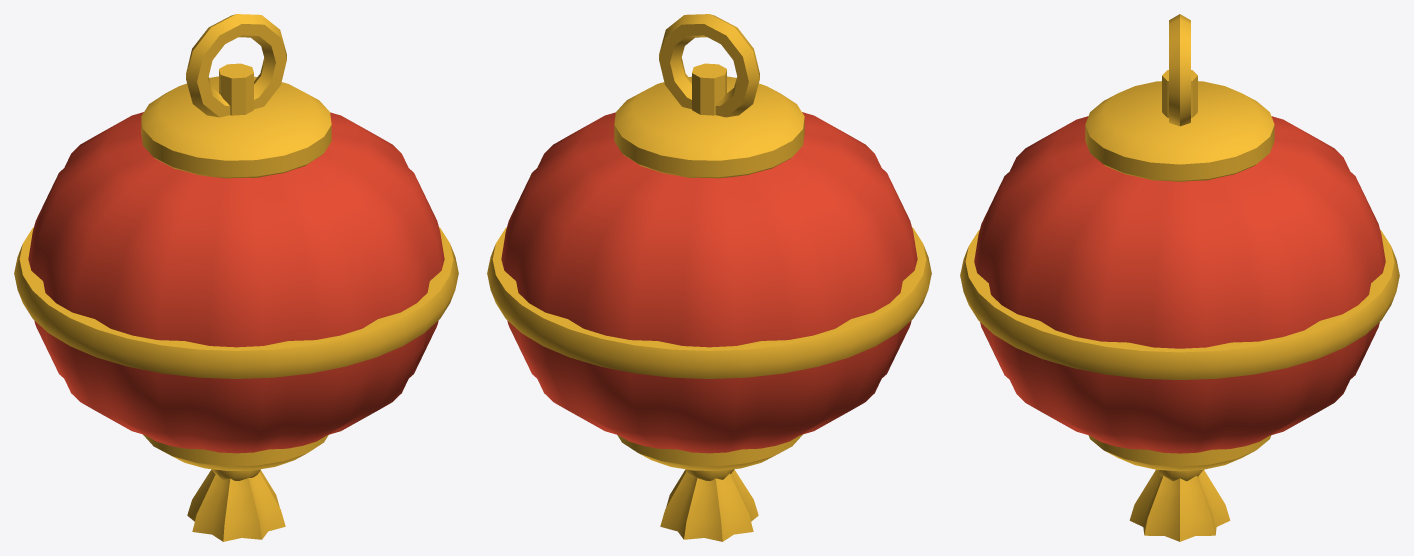
Rendered from coin_red.glb.
The picture shows the model from 3 angles, left to right: view 1: azimuth 30°, elevation 25°; view 2: azimuth 150°, elevation 25°; view 3: azimuth 270°, elevation 25°; orthographic projection.
Visible parts, largest first — view 1: coin_red; view 2: coin_red; view 3: coin_red.
Part boxes in pixels (x1,y1,x2,y2): coin_red: (14, 14, 458, 541); coin_red: (487, 14, 931, 541); coin_red: (960, 14, 1399, 541).
Bounding box in the file's own units: 0.488 × 0.614 × 0.488.
